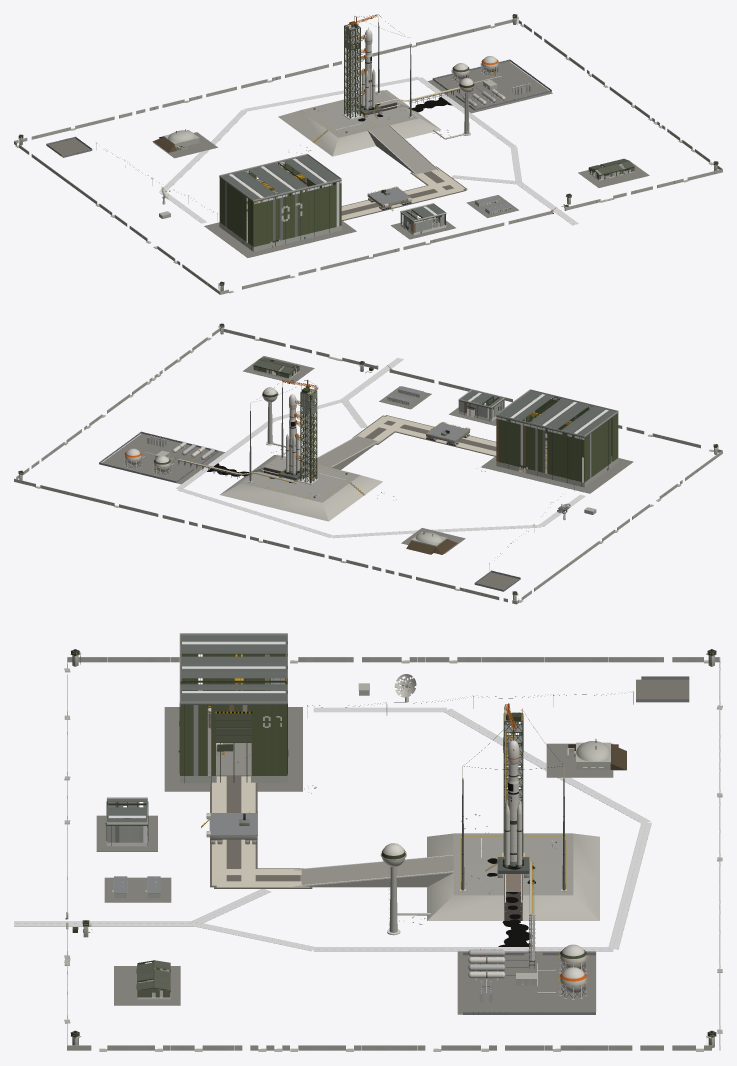
The model's file is launch-complex.glb.
3 renders of one model, top to bottom at view 1: azimuth 30°, elevation 25°; view 2: azimuth 150°, elevation 25°; view 3: azimuth 270°, elevation 25°, orthographic. The views are drawn at different scales.
Parts seen in each view (by area): view 1: C0_0_lod0, C-2_-2_lod0, C-3_-2_lod0, C2_1_lod0, C-1_-2_lod0, C-1_-3_lod0, C0_-1_lod0, C0_1_lod0, C0_-2_lod0, C-2_1_lod0, C2_-2_lod0, C1_0_lod0 (+7 smaller); view 2: C0_0_lod0, C0_1_lod0, C2_1_lod0, C-2_-2_lod0, C-3_-2_lod0, C-3_-1_lod0, C-2_-1_lod0, C-1_-2_lod0, C0_-2_lod0, C-2_1_lod0, C2_-2_lod0, C0_-1_lod0 (+7 smaller); view 3: C-2_-2_lod0, C0_0_lod0, C2_1_lod0, C0_1_lod0, C-1_-2_lod0, C-3_-2_lod0, C0_-2_lod0, C0_-1_lod0, C-2_1_lod0, C-1_-3_lod0, C2_-2_lod0, C1_0_lod0 (+15 smaller).
Part boxes in pixels (<box>): C0_0_lod0: <box>278,14,440,156</box>; C-2_-2_lod0: <box>204,154,356,257</box>; C-3_-2_lod0: <box>219,166,304,251</box>; C2_1_lod0: <box>428,56,552,113</box>; C-1_-2_lod0: <box>341,181,466,229</box>; C-1_-3_lod0: <box>391,203,469,249</box>; C0_-1_lod0: <box>367,125,439,176</box>; C0_1_lod0: <box>244,16,420,114</box>; C0_-2_lod0: <box>410,166,519,217</box>; C-2_1_lod0: <box>152,110,246,158</box>; C2_-2_lod0: <box>578,158,649,187</box>; C1_0_lod0: <box>412,78,477,139</box>; C0_0_lod0: <box>244,379,382,521</box>; C0_1_lod0: <box>177,385,333,537</box>; C2_1_lod0: <box>99,432,224,484</box>; C-2_-2_lod0: <box>481,389,633,493</box>; C-3_-2_lod0: <box>542,401,618,487</box>; C-3_-1_lod0: <box>525,428,591,526</box>; C-2_-1_lod0: <box>476,414,584,475</box>; C-1_-2_lod0: <box>374,399,496,456</box>; C0_-2_lod0: <box>341,386,431,444</box>; C-2_1_lod0: <box>332,528,465,554</box>; C2_-2_lod0: <box>243,356,314,383</box>; C0_-1_lod0: <box>312,434,381,469</box>; C-2_-2_lod0: <box>164,633,302,791</box>; C0_0_lod0: <box>427,703,599,920</box>; C2_1_lod0: <box>457,944,596,1014</box>; C0_1_lod0: <box>520,708,651,949</box>; C-1_-2_lod0: <box>131,775,257,887</box>; C-3_-2_lod0: <box>179,633,287,755</box>; C0_-2_lod0: <box>104,868,312,925</box>; C0_-1_lod0: <box>293,855,453,887</box>; C-2_1_lod0: <box>527,739,650,823</box>; C-1_-3_lod0: <box>64,797,157,851</box>; C2_-2_lod0: <box>114,960,180,1005</box>; C1_0_lod0: <box>381,843,532,956</box>.
Size of what is drawn, in the model's own units: 695 by 143 by 532.
